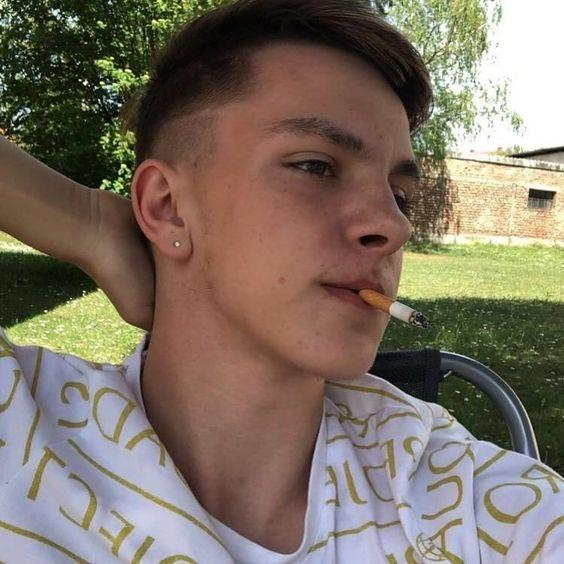cigarette: (358, 288, 431, 327)
